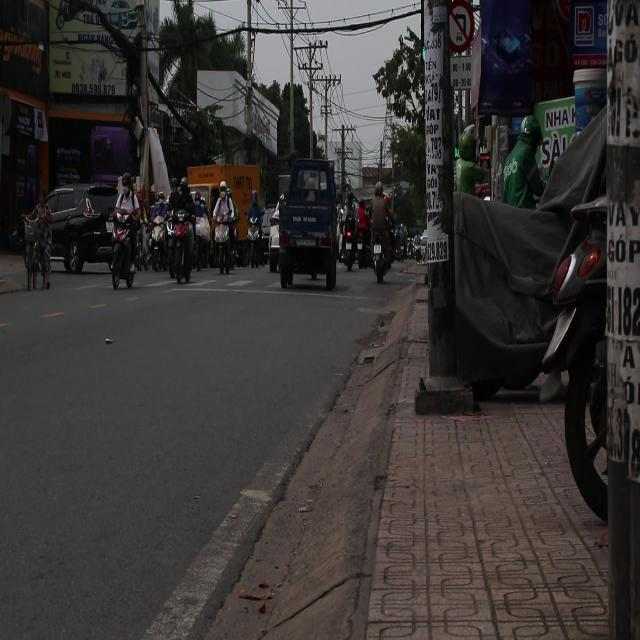car: (44, 183, 120, 274)
motorbike: (207, 194, 236, 281), (165, 213, 199, 285), (368, 220, 394, 290), (338, 216, 366, 278), (246, 208, 268, 276)
truck: (276, 160, 341, 288)
